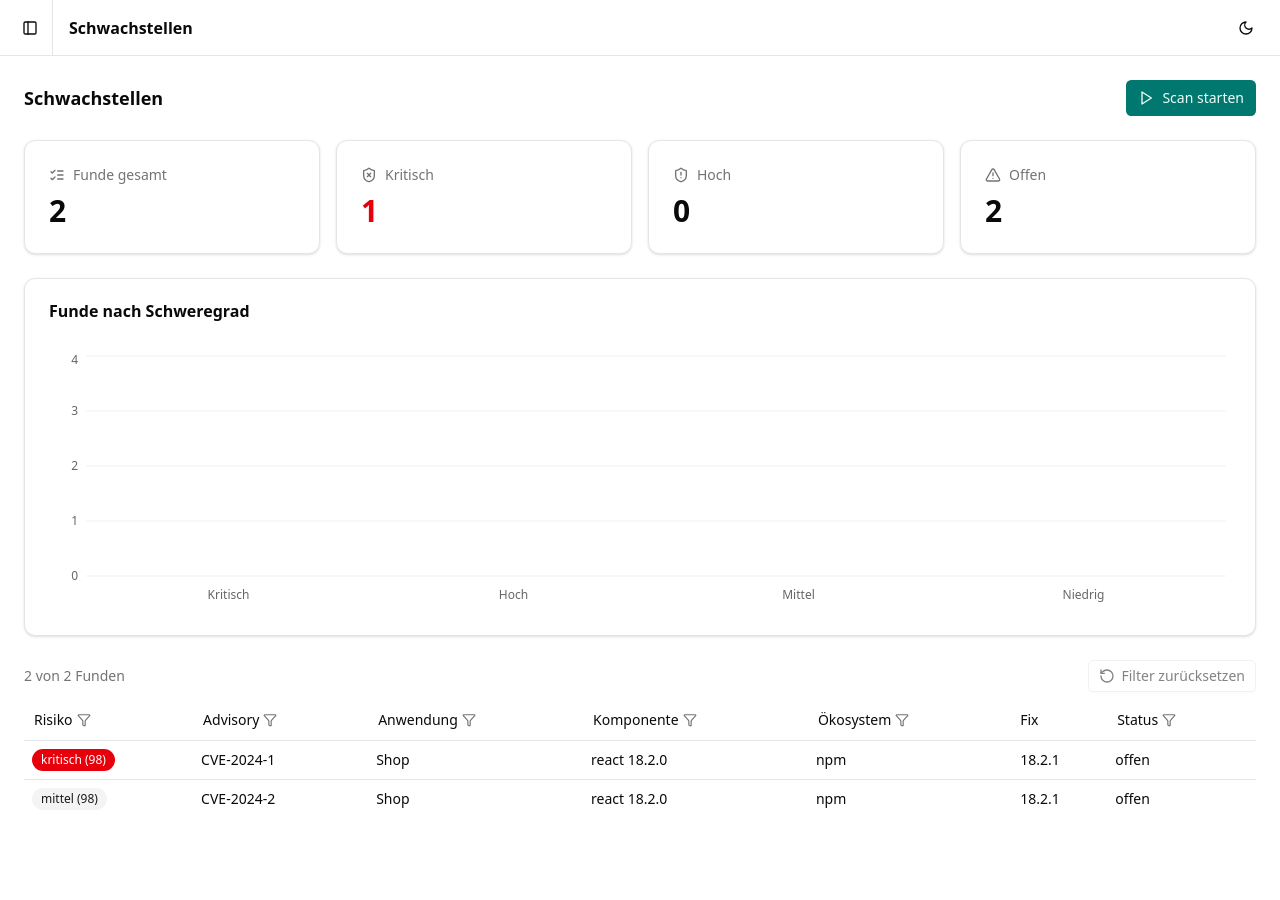
App › filtert nur die Tabelle, Kacheln zeigen den Gesamtstand
The image size is (1280, 900).
Expected: the row with test id "cves-item-CVE-2024-2-1" is shown, [24,779,1256,818]
Click the button with test id "cves-select-severity". click: (62, 720)
box: [24,704,101,736]
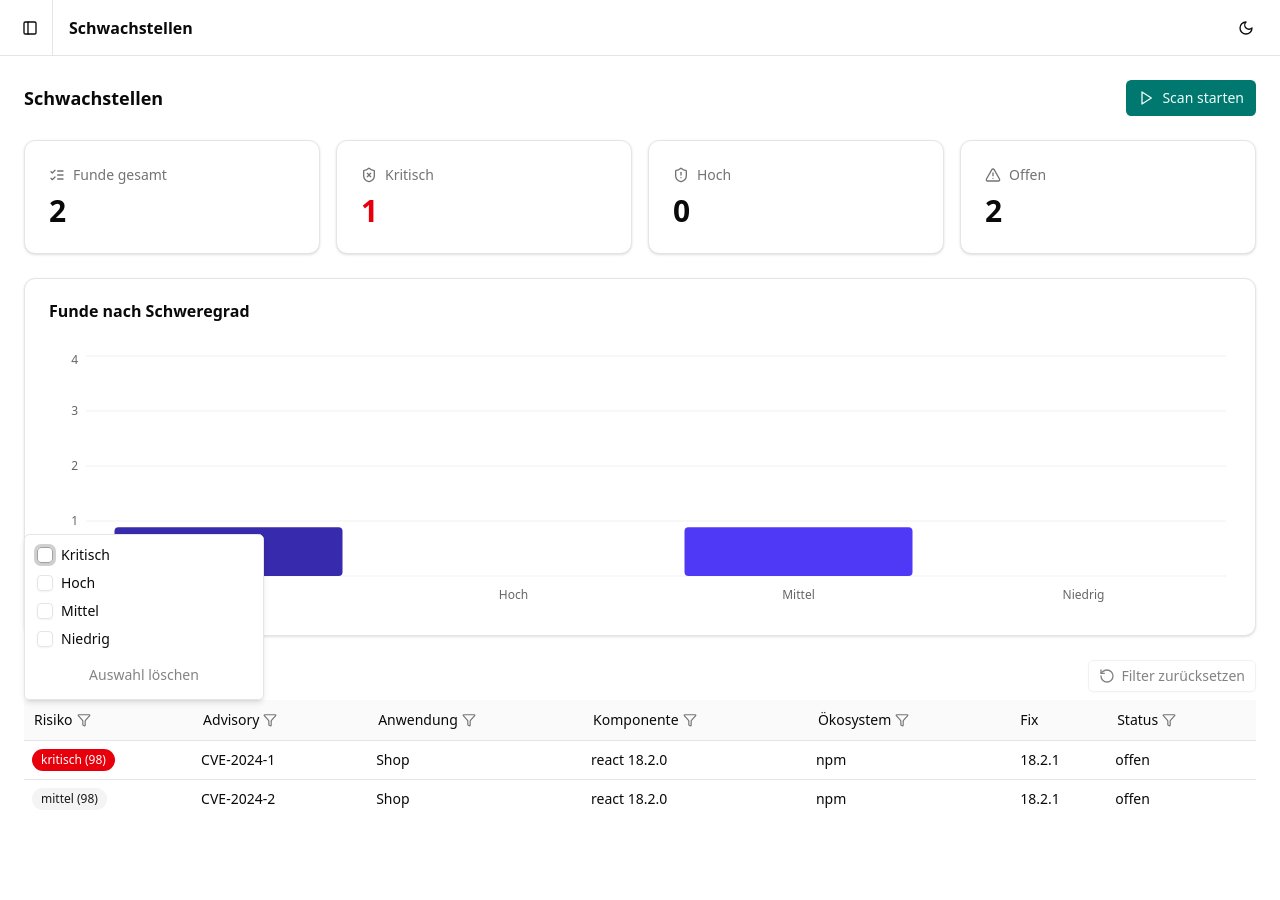
Click the checkbox with test id "cves-checkbox-severity-kritisch". click: (45, 555)
box: [37,547,53,563]
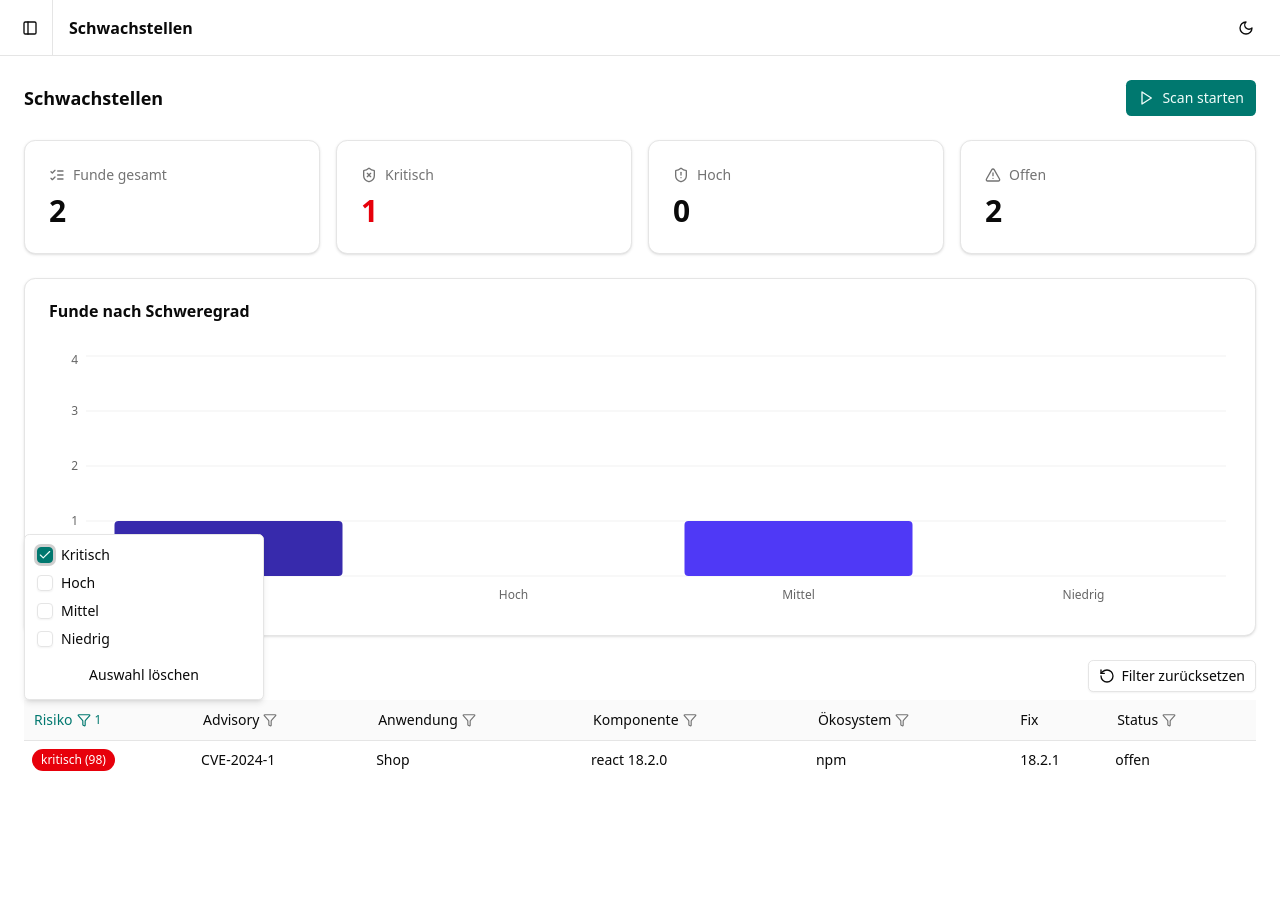
Expected: the element with test id "cves-list-kpis" shows "2", [49,190,66,231]
Expected: the text with test id "cves-text-filter-summary" shows "1 von 2", [24,666,125,686]
Expected: the row with test id "cves-item-CVE-2024-2-1" is gone
